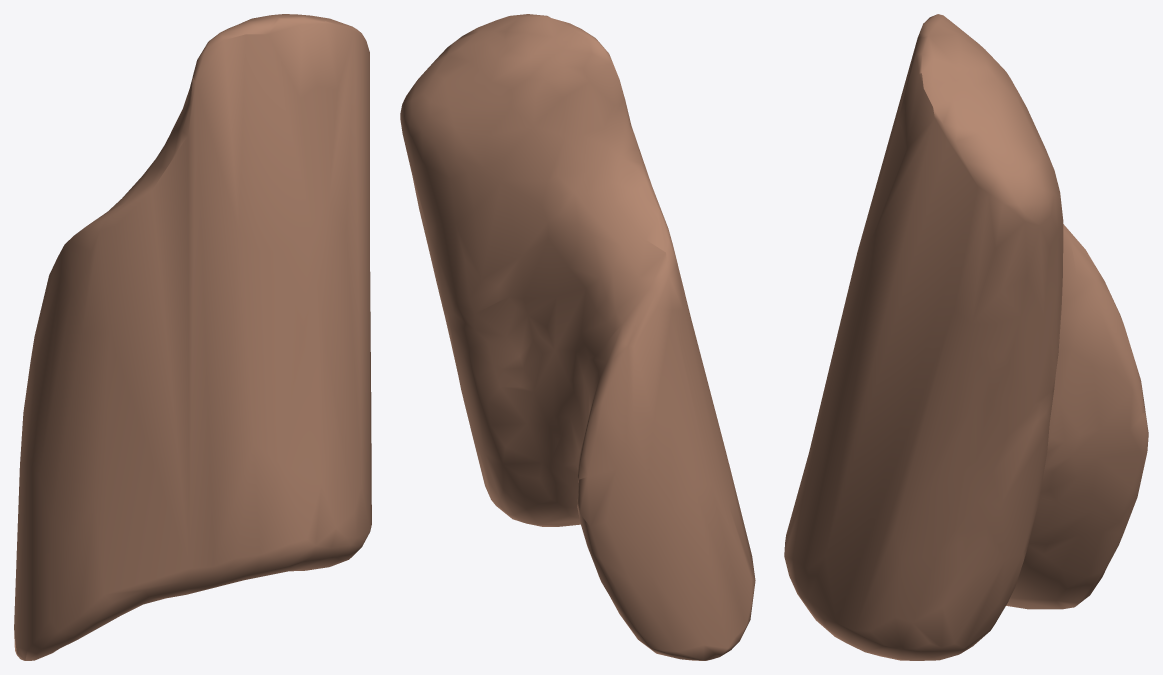
File: lobo_caudado.glb
3 renders of one model, left to right at view 1: azimuth 30°, elevation 25°; view 2: azimuth 150°, elevation 25°; view 3: azimuth 270°, elevation 25°, orthographic. The views are drawn at different scales.
Visible parts, largest first — view 1: lobo_caudado; view 2: lobo_caudado; view 3: lobo_caudado.
Boxes of the visible parts, left/top/right/bottom form: lobo_caudado: left=14, top=14, right=371, bottom=660; lobo_caudado: left=400, top=14, right=755, bottom=660; lobo_caudado: left=784, top=14, right=1148, bottom=660.
Size of the model in its own units: 0.0451 by 0.0747 by 0.0358.
